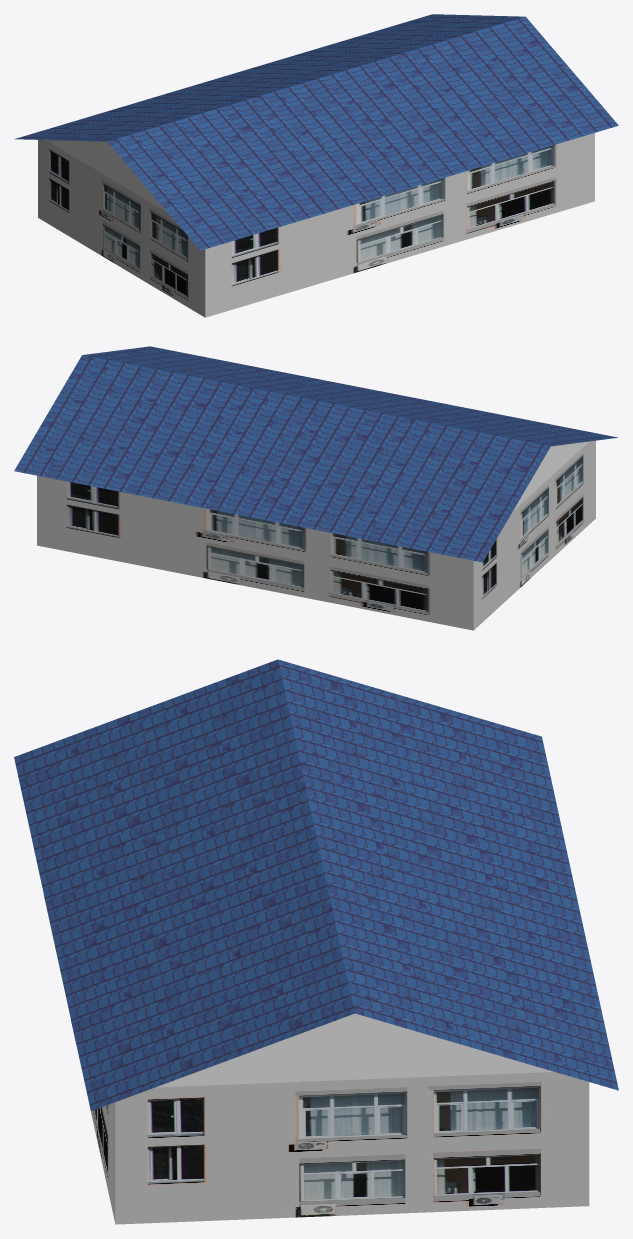
The picture shows the model from 3 angles, top to bottom: view 1: azimuth 30°, elevation 25°; view 2: azimuth 150°, elevation 25°; view 3: azimuth 270°, elevation 25°; orthographic projection. The views are drawn at different scales.
Visible parts, largest first — view 1: CityEngineMaterial_10_m, CityEngineMaterial_9_m, CityEngineMaterial_3_m; view 2: CityEngineMaterial_10_m, CityEngineMaterial_9_m, CityEngineMaterial_3_m; view 3: CityEngineMaterial_10_m, CityEngineMaterial_9_m, CityEngineMaterial_3_m.
Part boxes in pixels (x1,y1,x2,y2): CityEngineMaterial_10_m: (14,14,618,250); CityEngineMaterial_9_m: (38,133,594,317); CityEngineMaterial_3_m: (46,140,167,212); CityEngineMaterial_10_m: (14,346,617,562); CityEngineMaterial_9_m: (37,440,595,630); CityEngineMaterial_3_m: (513,441,588,510); CityEngineMaterial_10_m: (14,659,618,1110); CityEngineMaterial_9_m: (43,894,589,1224); CityEngineMaterial_3_m: (156,1013,553,1087).
Size of the model in its own units: 30.67 by 8.17 by 20.93.
